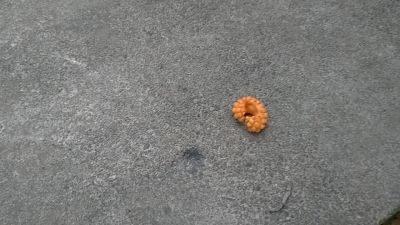eggs: (231, 95, 272, 135)
